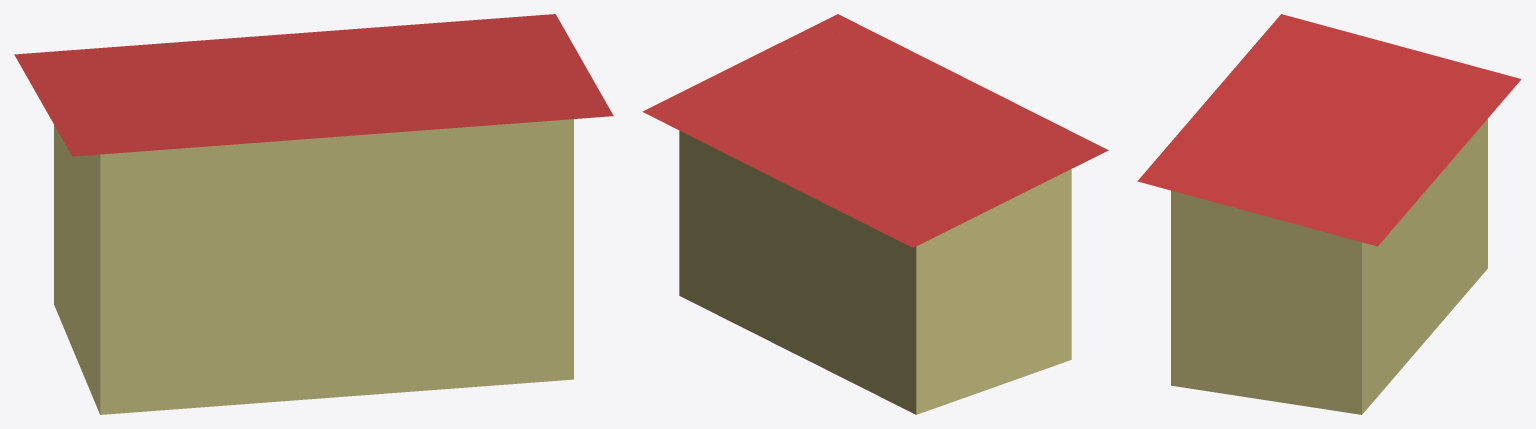
3 views of the same model, side by side, from view 1: azimuth 30°, elevation 25°; view 2: azimuth 150°, elevation 25°; view 3: azimuth 270°, elevation 25° (orthographic). The views are drawn at different scales.
Bounding box in the file's own units: 13.75 × 10.93 × 6.62.
